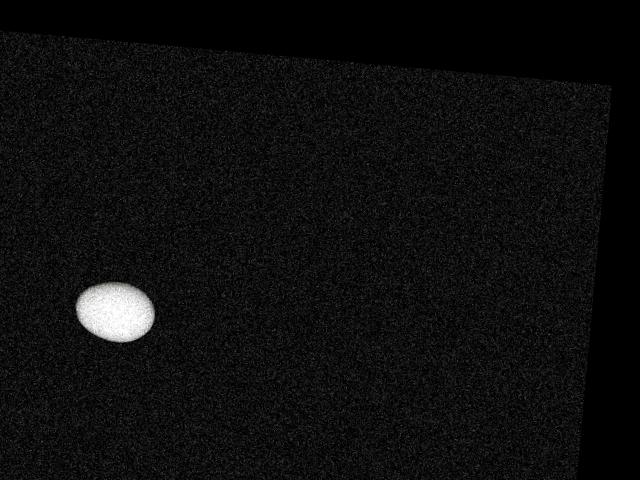egg: (74, 279, 158, 344)
